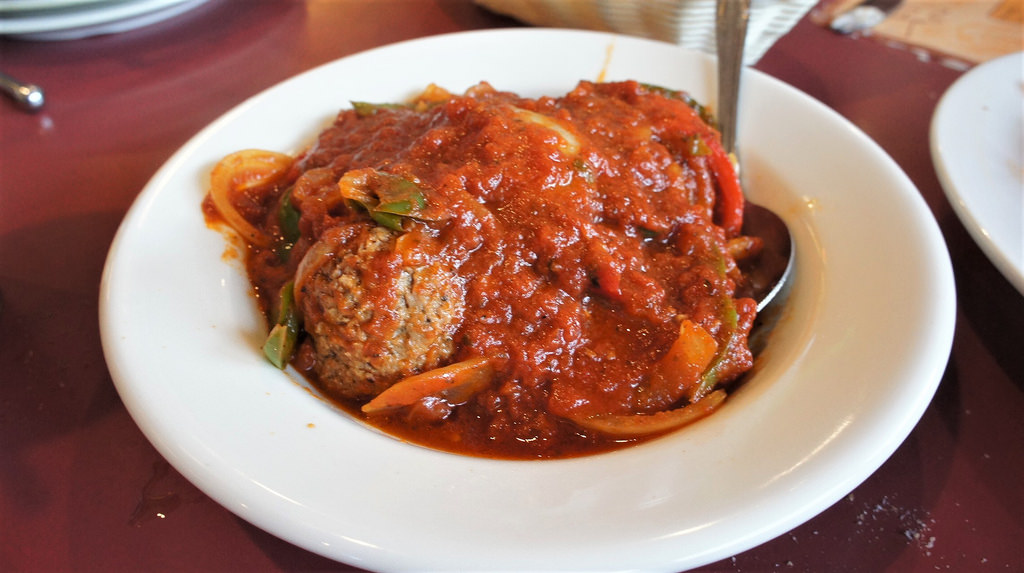meatballs: (286, 229, 471, 390)
